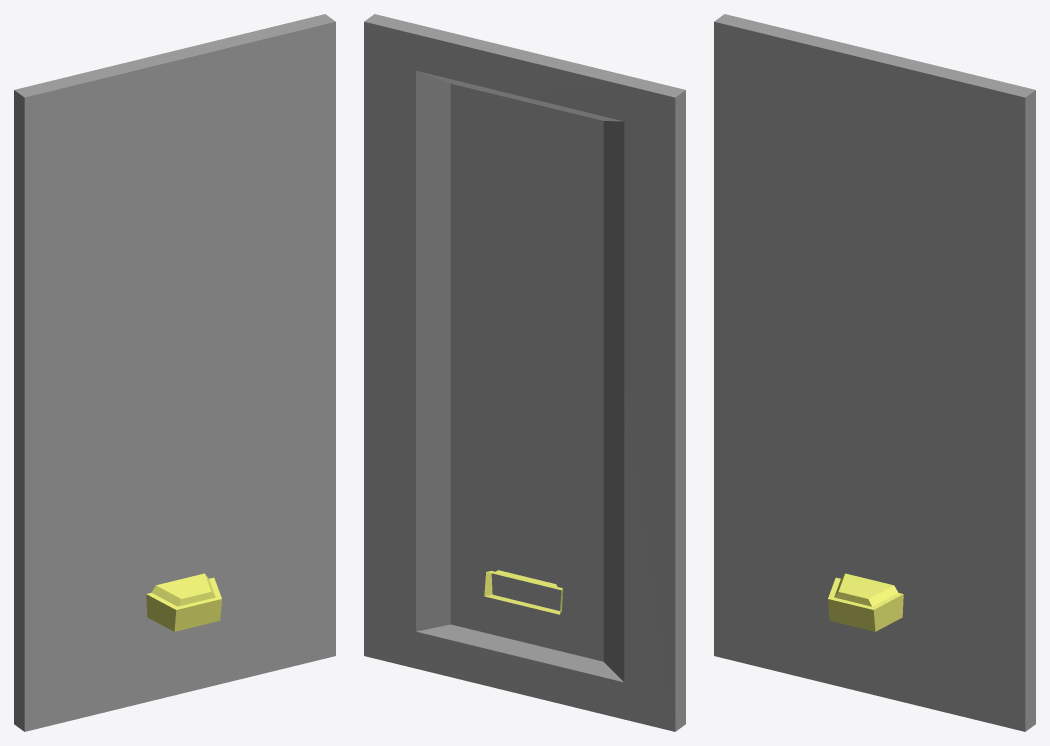
File: batteryPortDoor_01.fbx
3 views of the same model, side by side, from view 1: azimuth 30°, elevation 25°; view 2: azimuth 150°, elevation 25°; view 3: azimuth 330°, elevation 25° (orthographic).
Visible parts, largest first — view 1: batteryPortdoor, keypadProjector; view 2: batteryPortdoor, keypadProjector; view 3: batteryPortdoor, keypadProjector.
Boxes of the visible parts, <box> form: batteryPortdoor: <box>14,14,335,731</box>; keypadProjector: <box>146,573,221,631</box>; batteryPortdoor: <box>364,14,685,731</box>; keypadProjector: <box>484,570,562,614</box>; batteryPortdoor: <box>714,14,1035,731</box>; keypadProjector: <box>828,573,903,631</box>.
Bounding box in the file's own units: 56.53 × 110 × 9.27.
